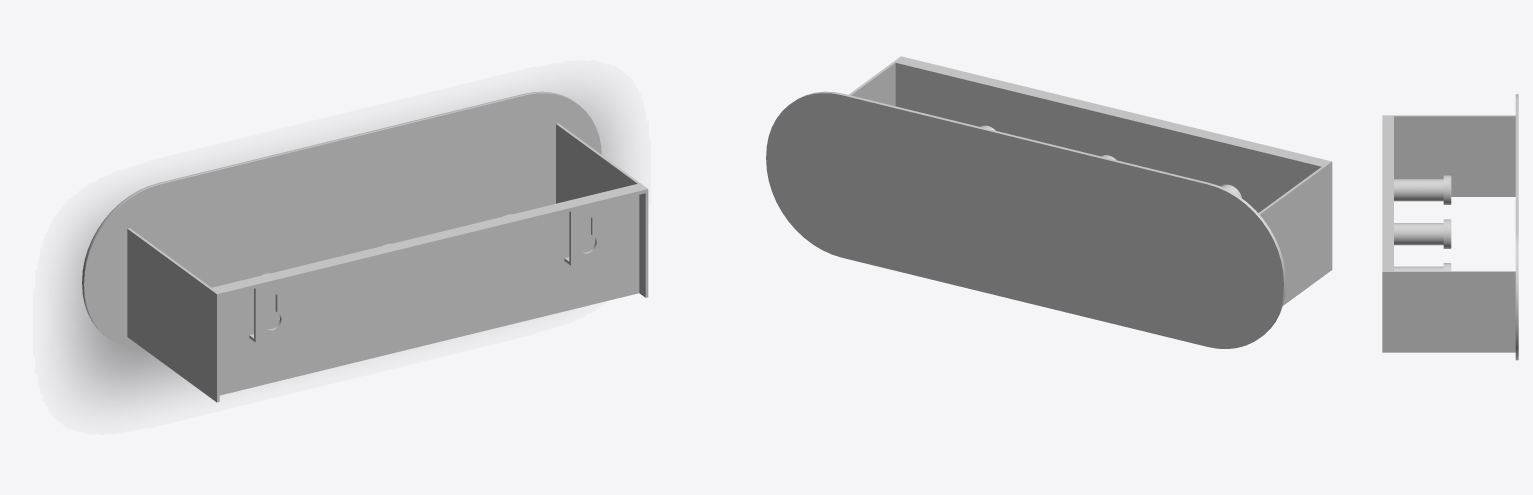
File: round-hook.36ed093297.ar.glb
The picture shows the model from 3 angles, left to right: view 1: azimuth 30°, elevation 25°; view 2: azimuth 150°, elevation 25°; view 3: azimuth 270°, elevation 25°; orthographic projection. The views are drawn at different scales.
Visible parts, largest first — view 1: NAUO1, object 2; view 2: NAUO1; view 3: NAUO1.
Boxes of the visible parts, x1,y1,x2,y2 form: NAUO1: (82, 91, 648, 402); object 2: (67, 98, 616, 396); NAUO1: (766, 56, 1332, 348); NAUO1: (1382, 94, 1518, 360).
Bounding box in the file's own units: 0.38 × 0.17 × 0.092.
Materials: 2 (1 with a texture image).
